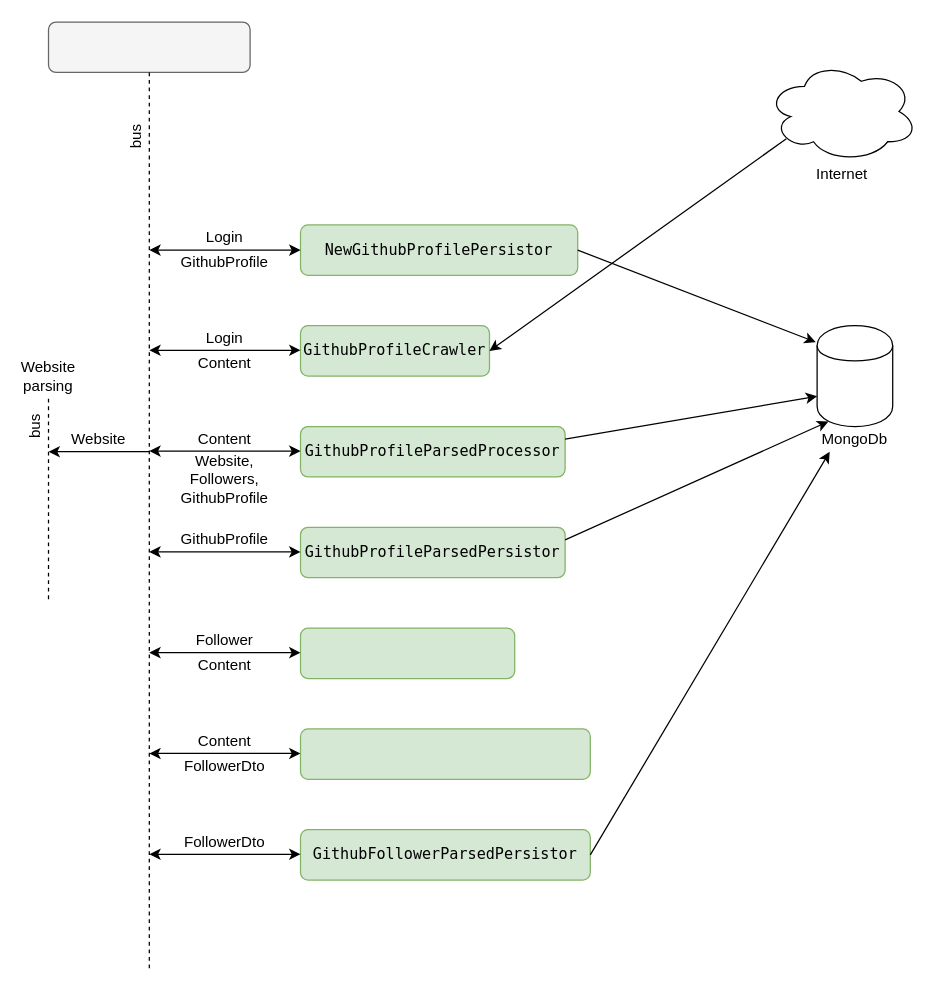
Some shapes in this 940 by 992 pixel diagram are drawn without their labels. Each missing label, with the centre of its shape:
GithubFollowersCrawler: the point at 407,653
GithubFollowersParsedProcessor: the point at 444,753
GithubUsers: the point at 148,46
